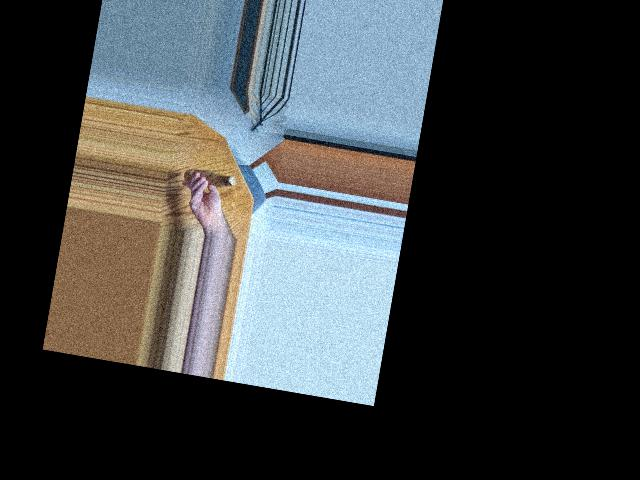sweet_potato: (185, 163, 234, 192)
